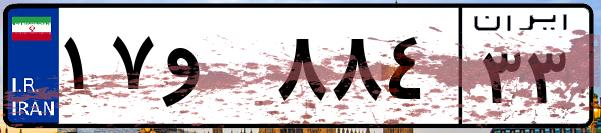1: (57, 26, 110, 100)
3: (475, 38, 525, 113), (525, 38, 570, 115)
4: (385, 28, 445, 110)
7: (110, 28, 158, 98)
8: (270, 28, 330, 110), (330, 28, 385, 110)
و: (158, 20, 270, 120)
